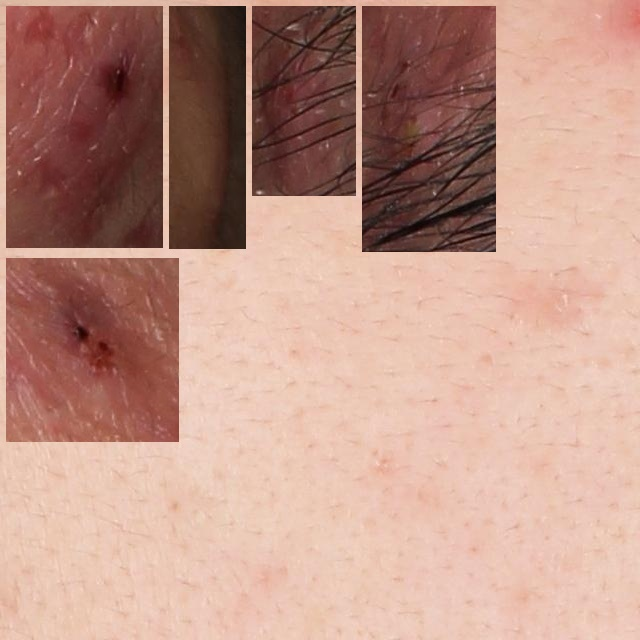nodule: (14, 14, 155, 240), (370, 14, 488, 244), (14, 266, 171, 434), (260, 14, 348, 188), (177, 14, 238, 241)
